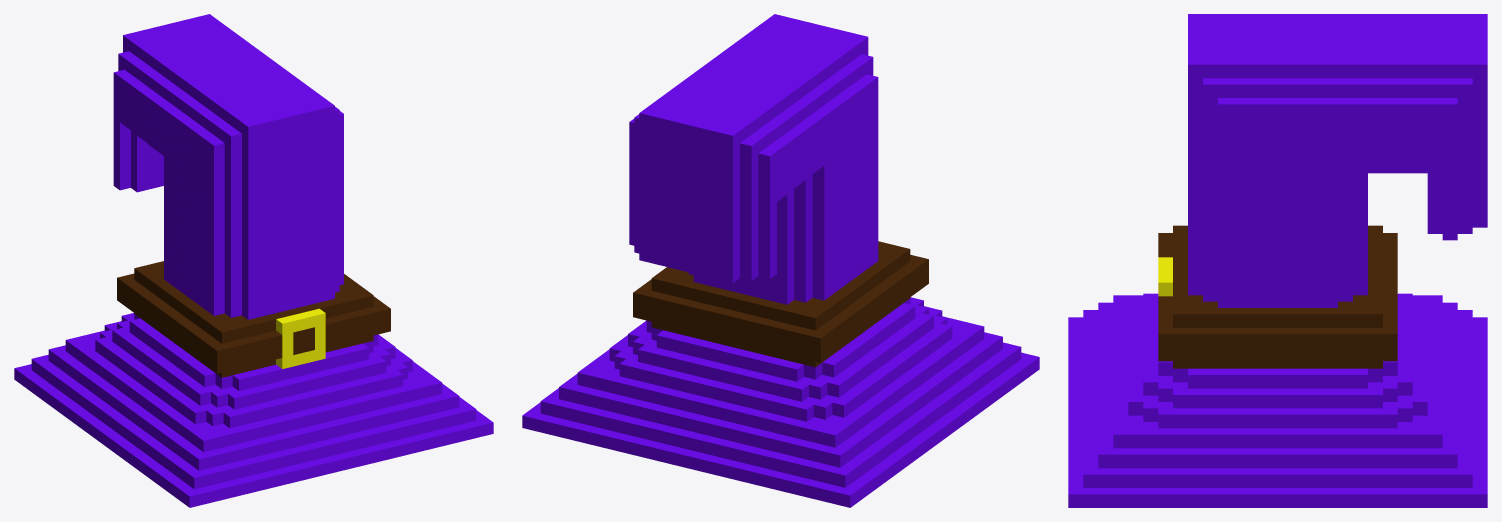
The model's file is Wizard-0.obj.
3 views of the same model, side by side, from view 1: azimuth 30°, elevation 25°; view 2: azimuth 150°, elevation 25°; view 3: azimuth 270°, elevation 25° (orthographic). The views are drawn at different scales.
Bounding box in the file's own units: 2.8 × 2.8 × 2.8.
1 material, 1 textured.
